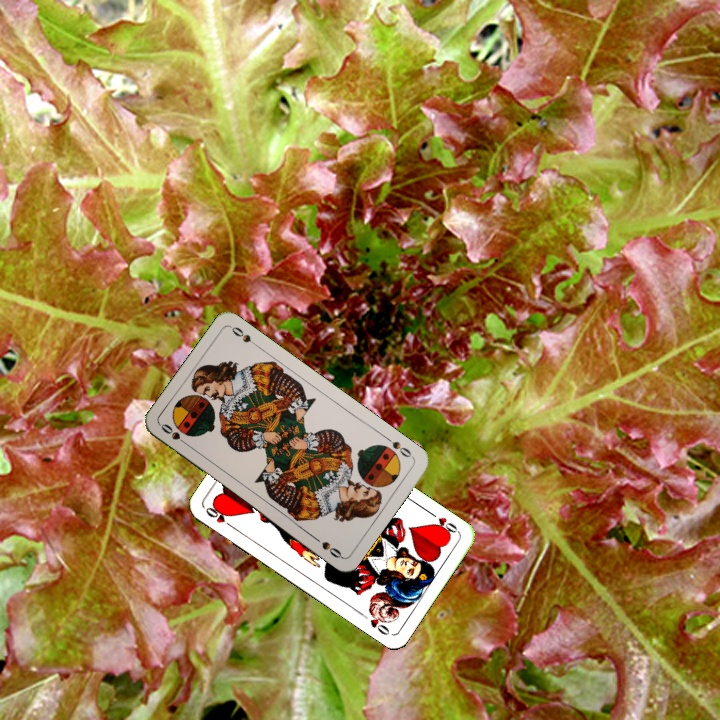HO: (425, 508, 462, 538), (201, 502, 237, 532)
SO: (157, 419, 192, 449), (381, 432, 416, 461)
